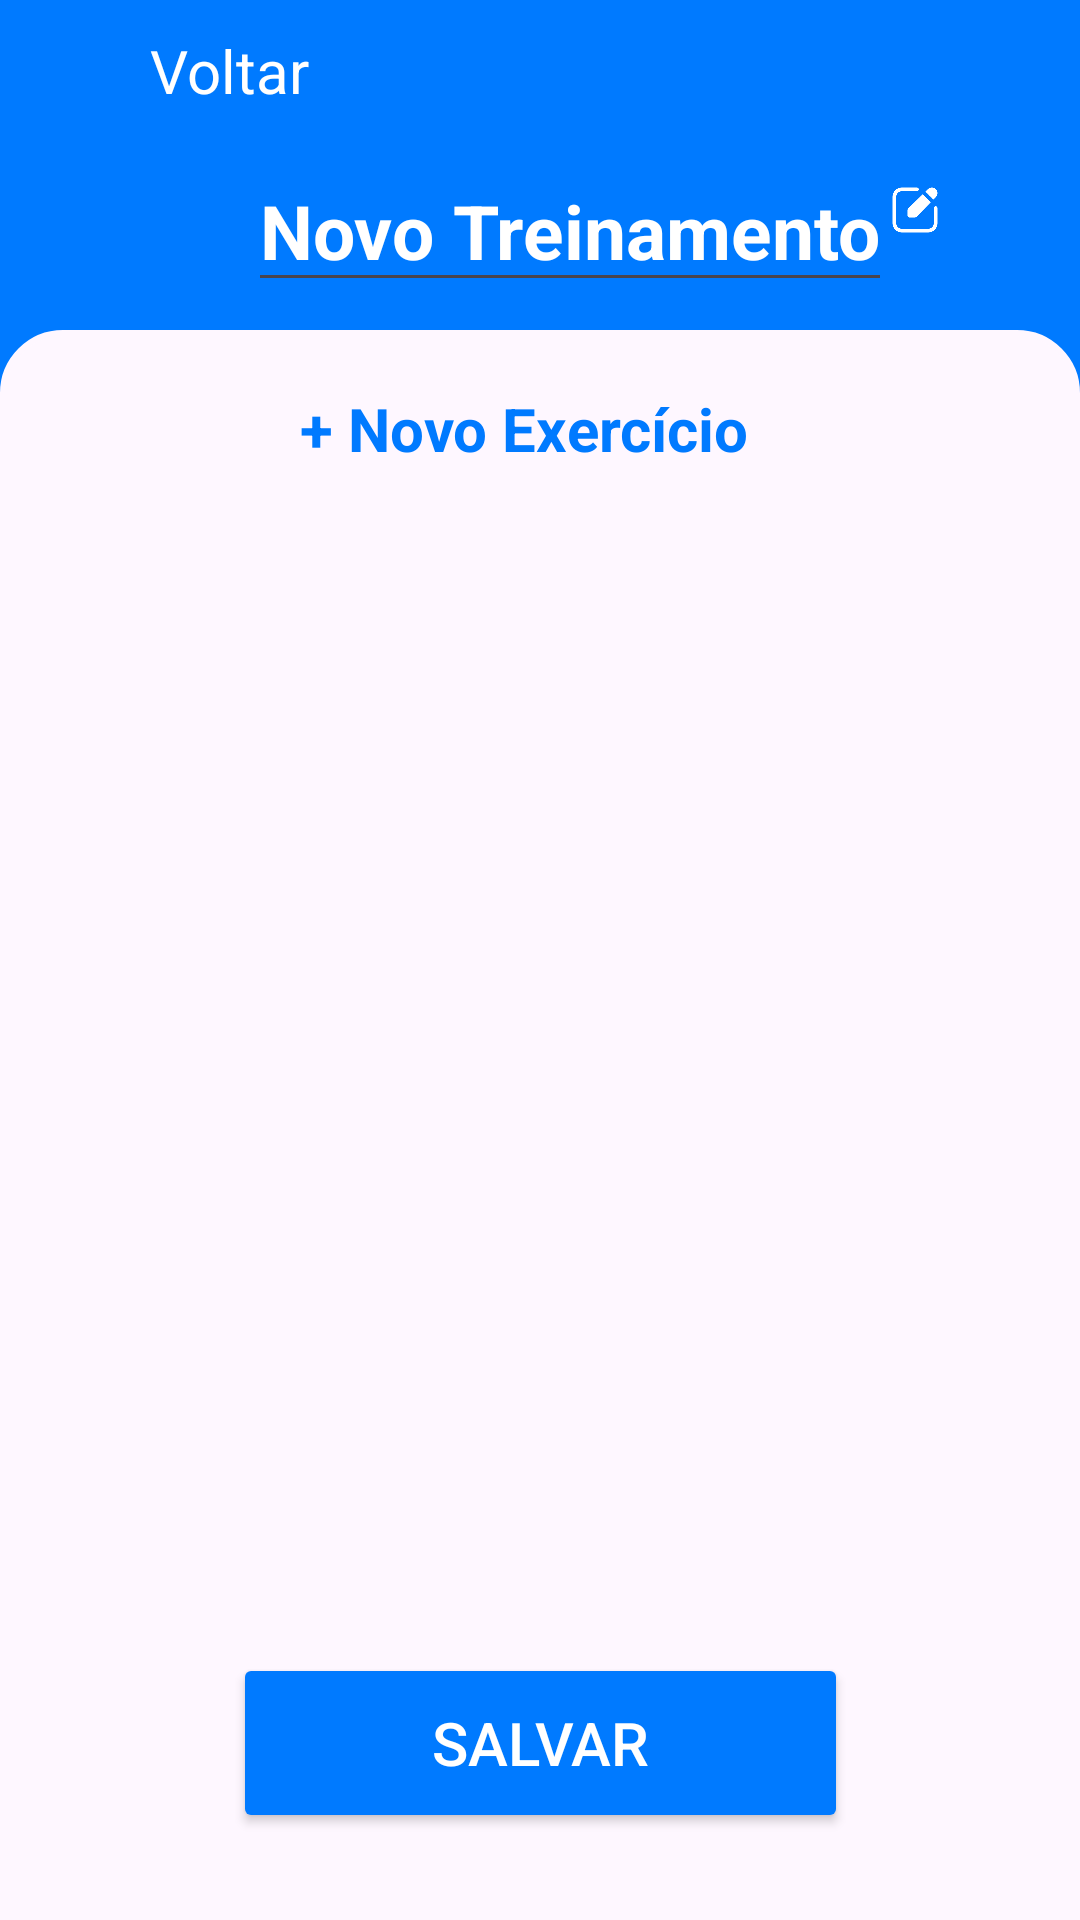

Named icons in this screenshot (1080 x 1920) and their centers, point (x, y):
edit: point (915, 210)
